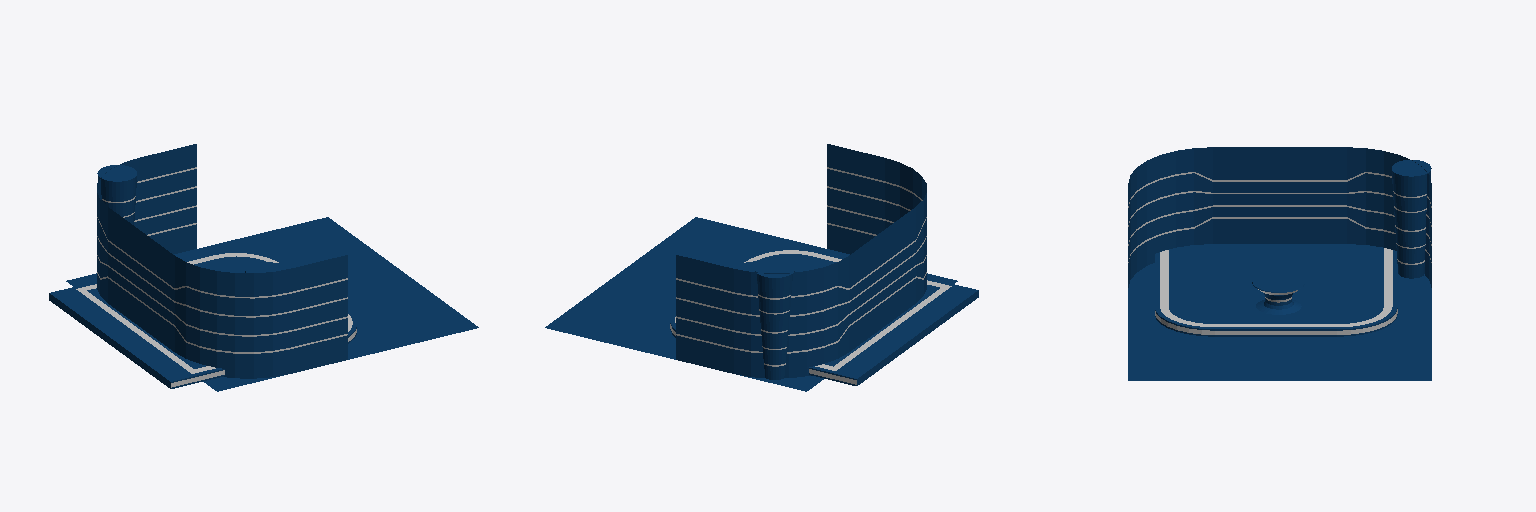
Rendered from studio.obj.
3 renders of one model, left to right at view 1: azimuth 30°, elevation 25°; view 2: azimuth 150°, elevation 25°; view 3: azimuth 270°, elevation 25°, orthographic.
Visible parts, largest first — view 1: Plane.002; view 2: Plane.002; view 3: Plane.002.
Boxes of the visible parts, x1,y1,x2,y2 form: Plane.002: [49, 144, 478, 391]; Plane.002: [545, 144, 978, 391]; Plane.002: [1128, 147, 1431, 380].
Size of the model in its own units: 56.32 by 19.23 by 50.01.